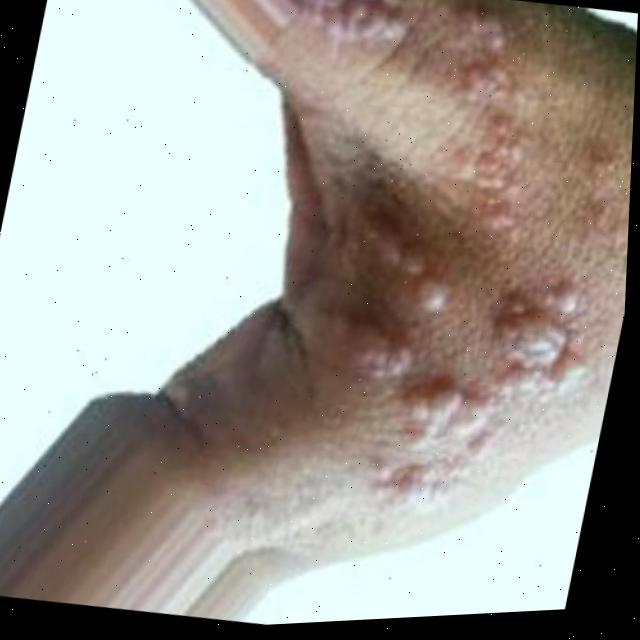Shingles: (211, 0, 640, 538)
